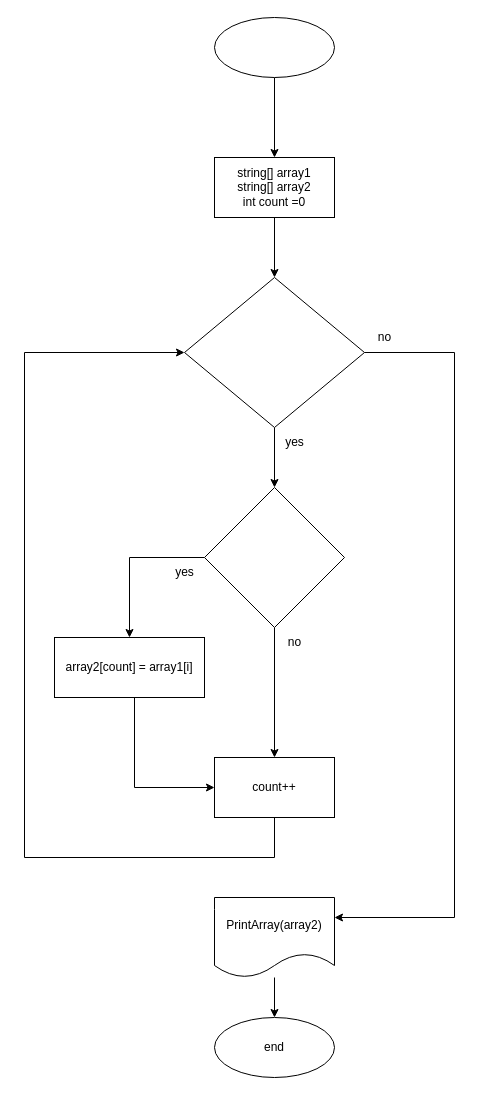
Some shapes in this 480 by 1095 pixel diagram are drawn without their labels. Each missing label, with the centre of its shape:
array1[i].Length <= 3: (x=274, y=557)
for(int i =0; i < array1.Length; i++;): (x=274, y=352)
Start: (x=274, y=47)
